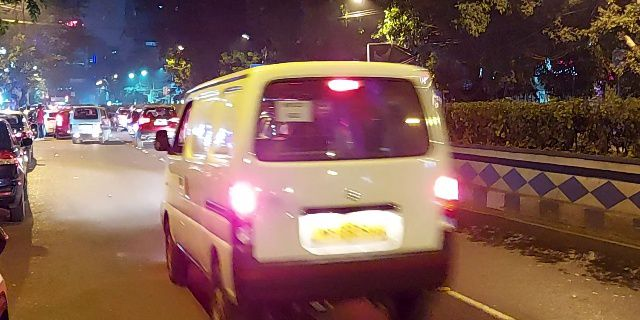Van: (181, 69, 471, 301), (71, 101, 109, 143)
